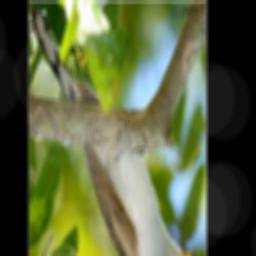Cuckoo: (28, 3, 199, 256)
